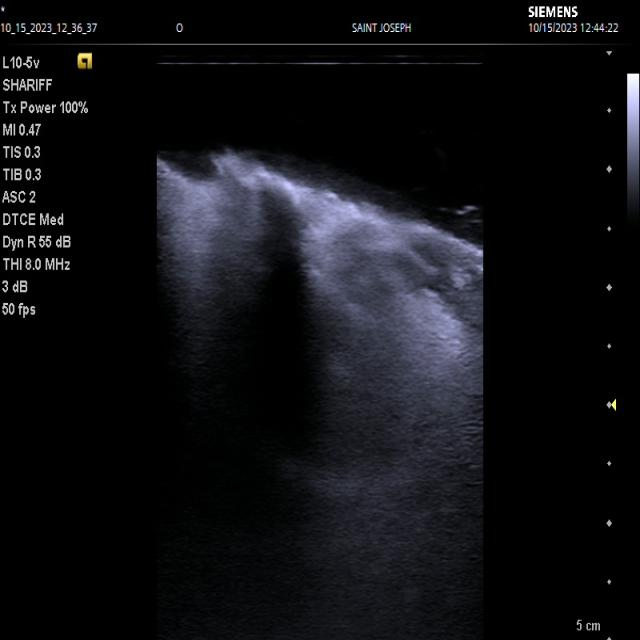tissue: (157, 158, 482, 640)
